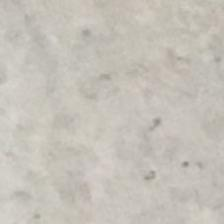Non_Crack: (20, 22, 224, 214)
